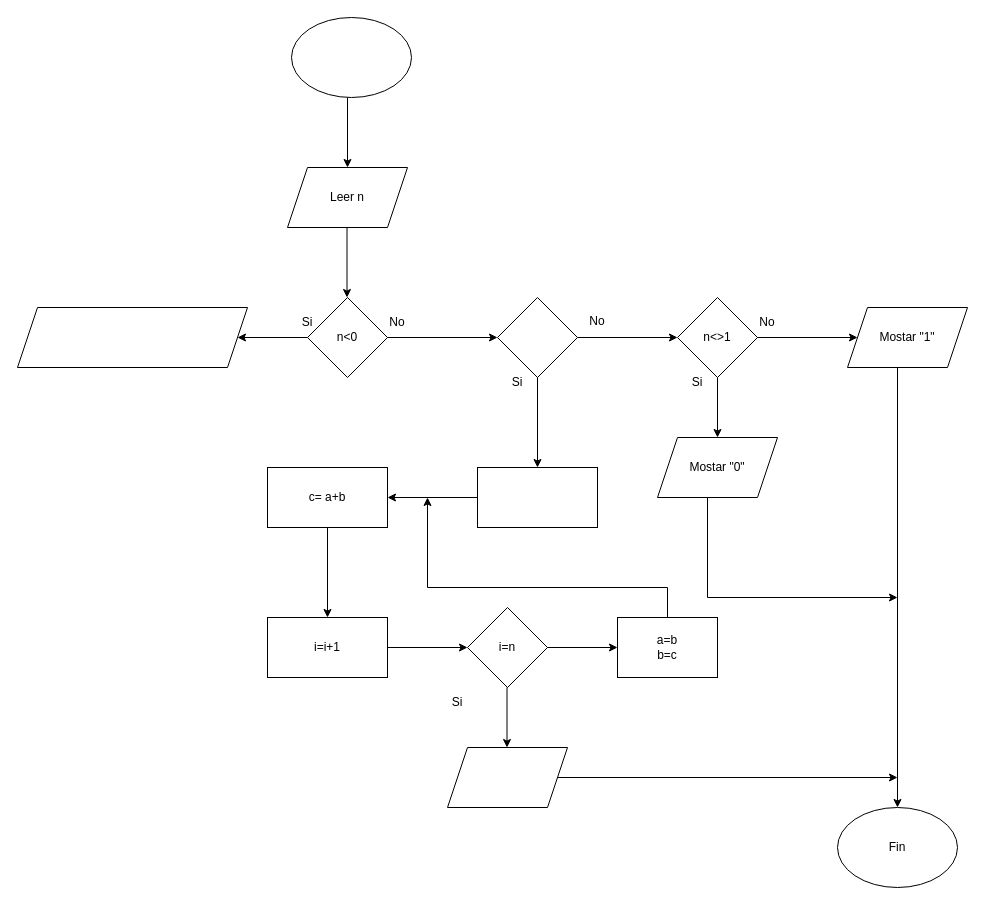
The diagram is 985 pixels wide and 905 high, and some of its shapes have lost their labels. The box of each missing label's shape, as (x1, y1, x2, y2) in pixels:
a=0 b=1 i=1: (476, 466, 598, 528)
Inicio: (290, 16, 412, 98)
Mostar "c": (446, 746, 568, 808)
Mostar "Digite un numero positivo": (16, 306, 248, 368)
n>1: (496, 296, 578, 378)
